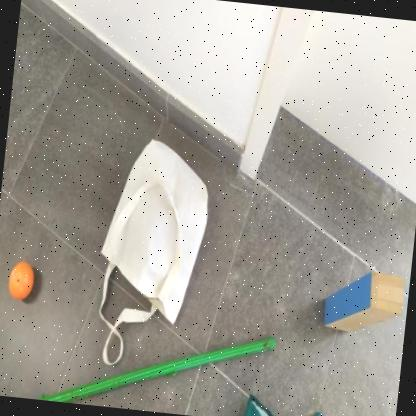bag: (79, 129, 218, 379)
